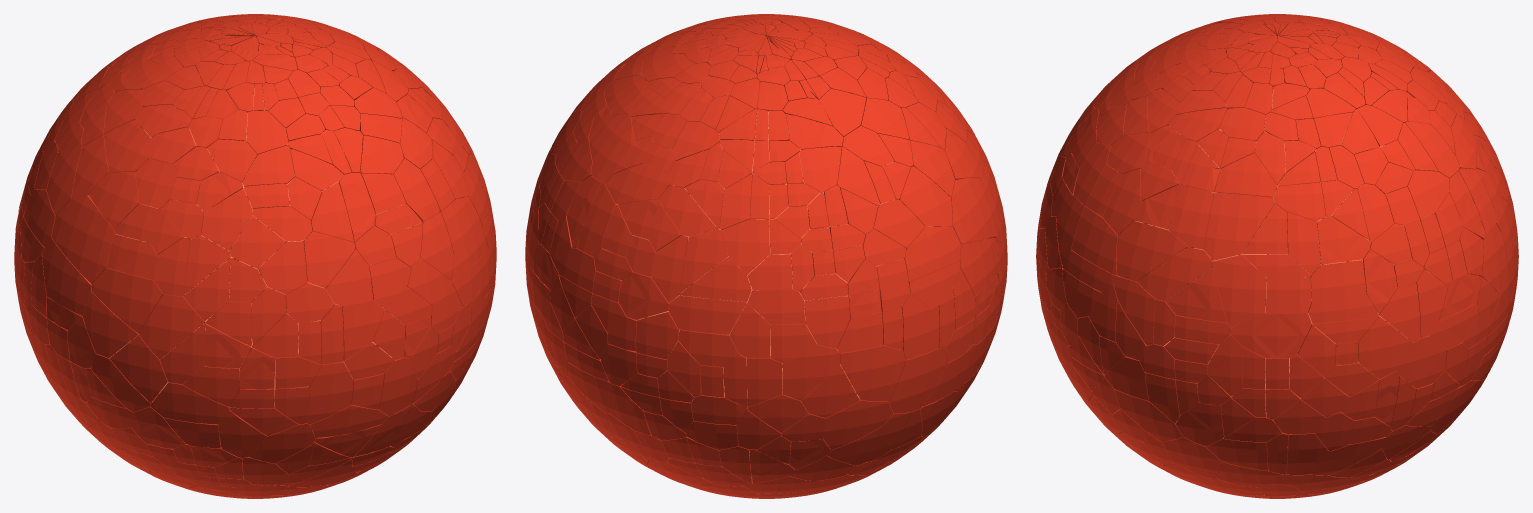
The model's file is hero.draco.glb.
The picture shows the model from 3 angles, left to right: view 1: azimuth 30°, elevation 25°; view 2: azimuth 150°, elevation 25°; view 3: azimuth 270°, elevation 25°; orthographic projection.
Parts seen in each view (by area): view 1: hero_shards, hero_core; view 2: hero_shards, hero_core; view 3: hero_shards, hero_core.
Boxes of the visible parts, x1,y1,x2,y2 form: hero_shards: [14, 14, 496, 498]; hero_core: [116, 88, 420, 407]; hero_shards: [525, 14, 1007, 498]; hero_core: [616, 111, 933, 408]; hero_shards: [1036, 14, 1518, 498]; hero_core: [1117, 87, 1431, 415].
Size of the model in its own units: 1.99 by 2.01 by 1.99.
